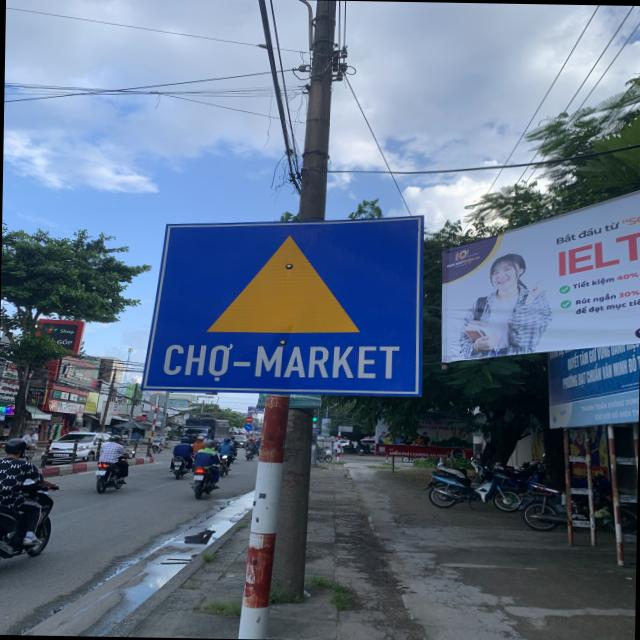Cho_Quay_Xe: (145, 215, 428, 397)
